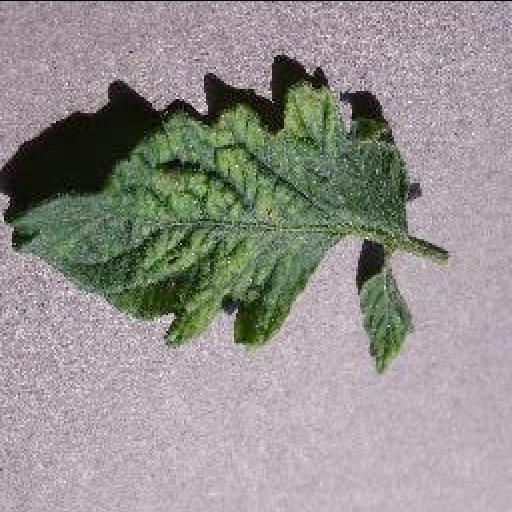Mosaic Virus: (8, 76, 418, 370)
